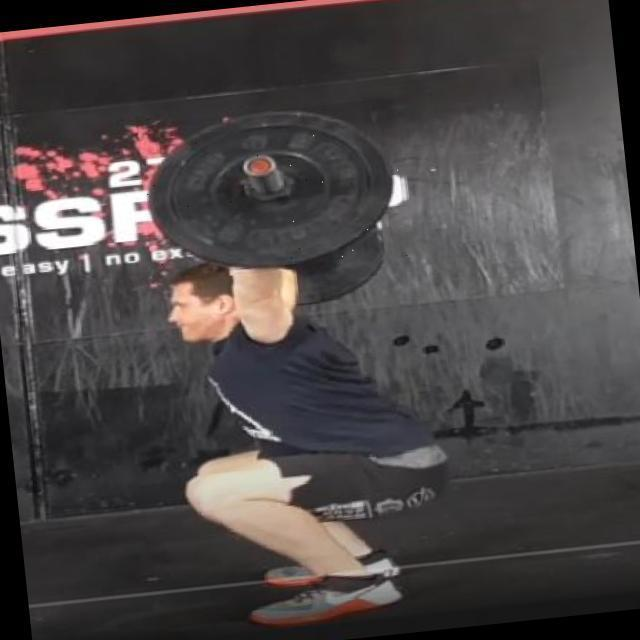barbell: (137, 98, 412, 284)
